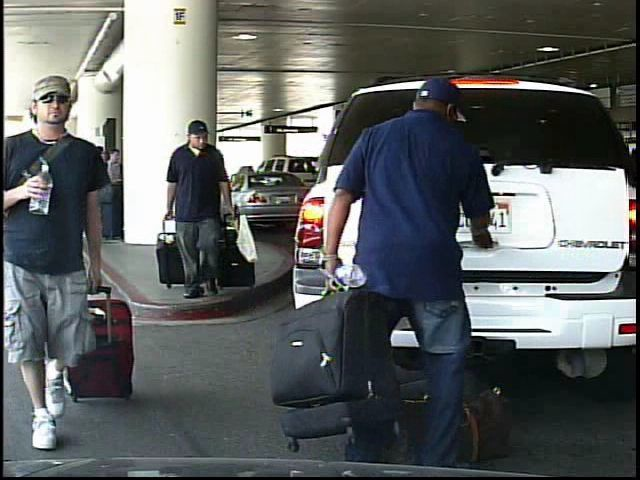person: (322, 75, 514, 474), (5, 77, 140, 458), (158, 118, 249, 302)
